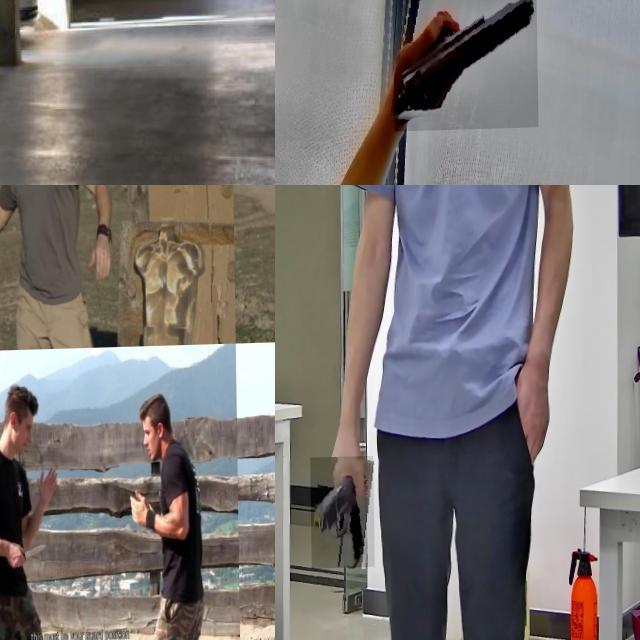-: (0, 92, 27, 179), (5, 540, 46, 570), (0, 219, 21, 249)
gun-knife-thesis - v11 Yolov5 augmented: (392, 0, 537, 133), (309, 458, 373, 570)
